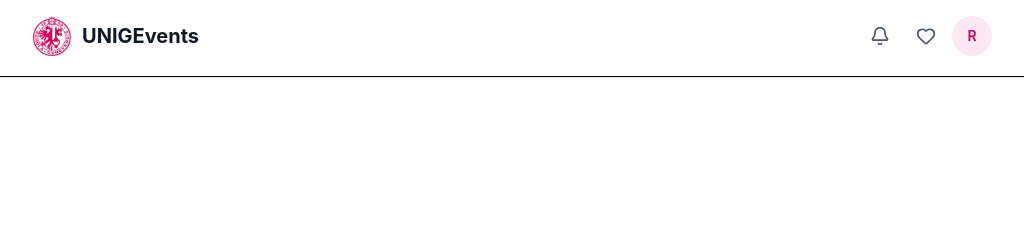
Scenario: Navbar › shows an admin badge for admin users
The image size is (1024, 231).
Note: Le rôle s'affiche dans le menu avatar (déroulant), pas comme badge permanent.
Click the button named "Menu utilisateur".
click(972, 36)  # box 952,16 -> 992,56
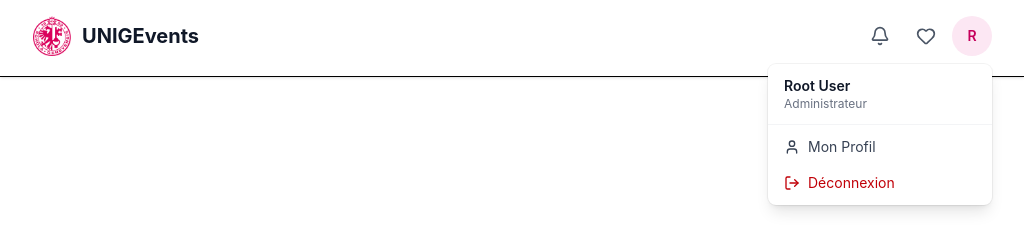
Now the text "Administrateur" is shown, box 784,96 -> 867,111
